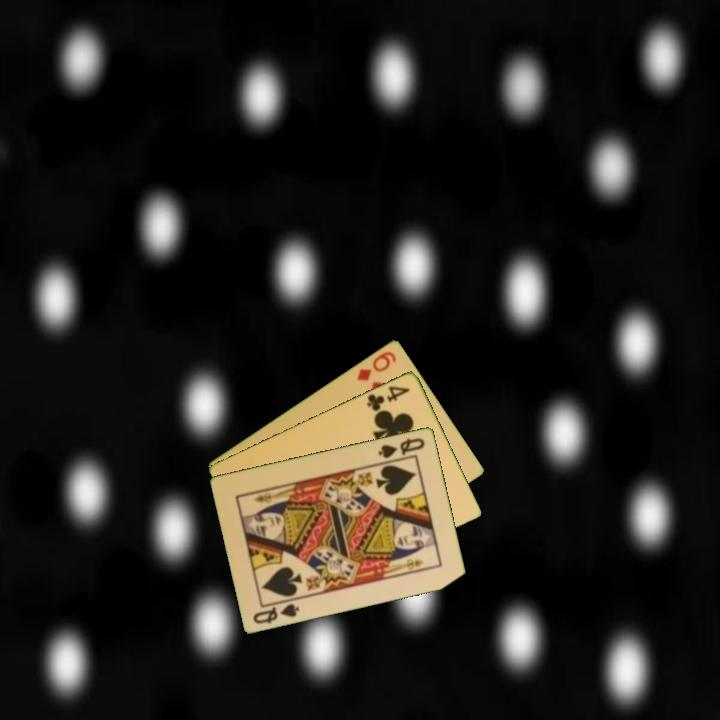4c: (363, 382, 413, 414)
6d: (353, 347, 399, 384)
Qs: (250, 595, 303, 627), (375, 434, 428, 461)
